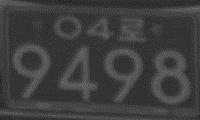0: (54, 14, 83, 40)
4: (58, 45, 98, 102), (86, 15, 116, 43)
8: (150, 48, 190, 105)
9: (11, 43, 51, 99), (104, 46, 144, 101)
로: (118, 16, 146, 41)
